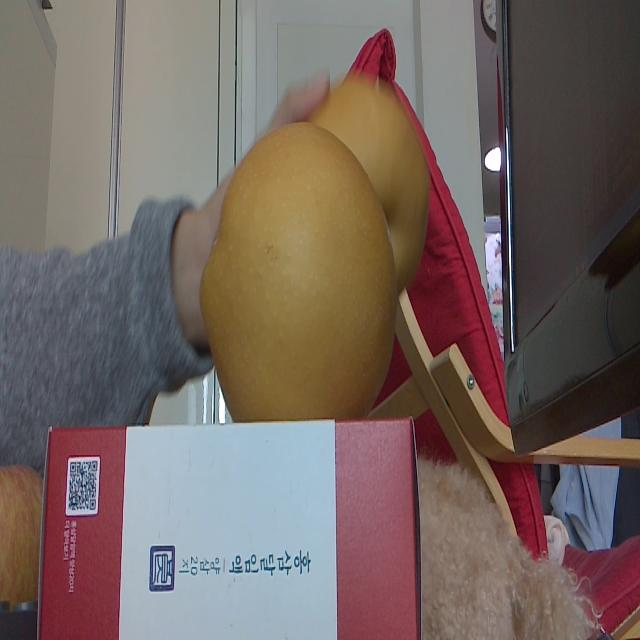apple: (0, 463, 38, 600)
pear: (200, 124, 398, 419), (309, 80, 430, 297)
